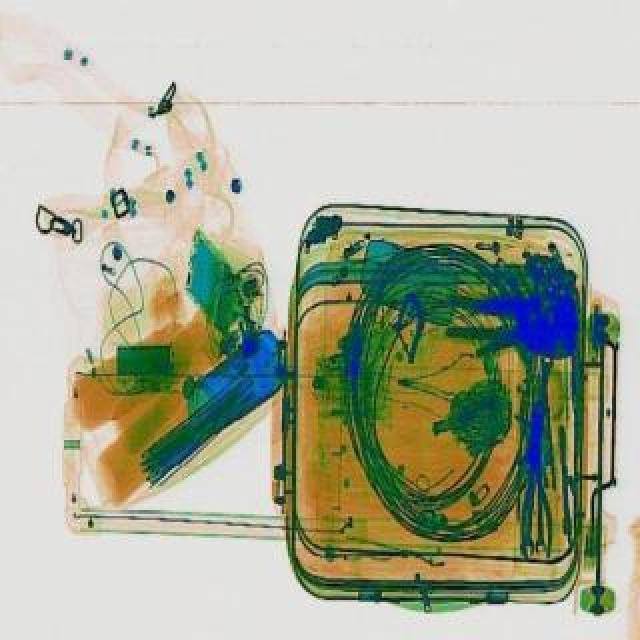scissors: (518, 486, 534, 554), (534, 508, 546, 552)
wrench: (518, 436, 552, 556)
